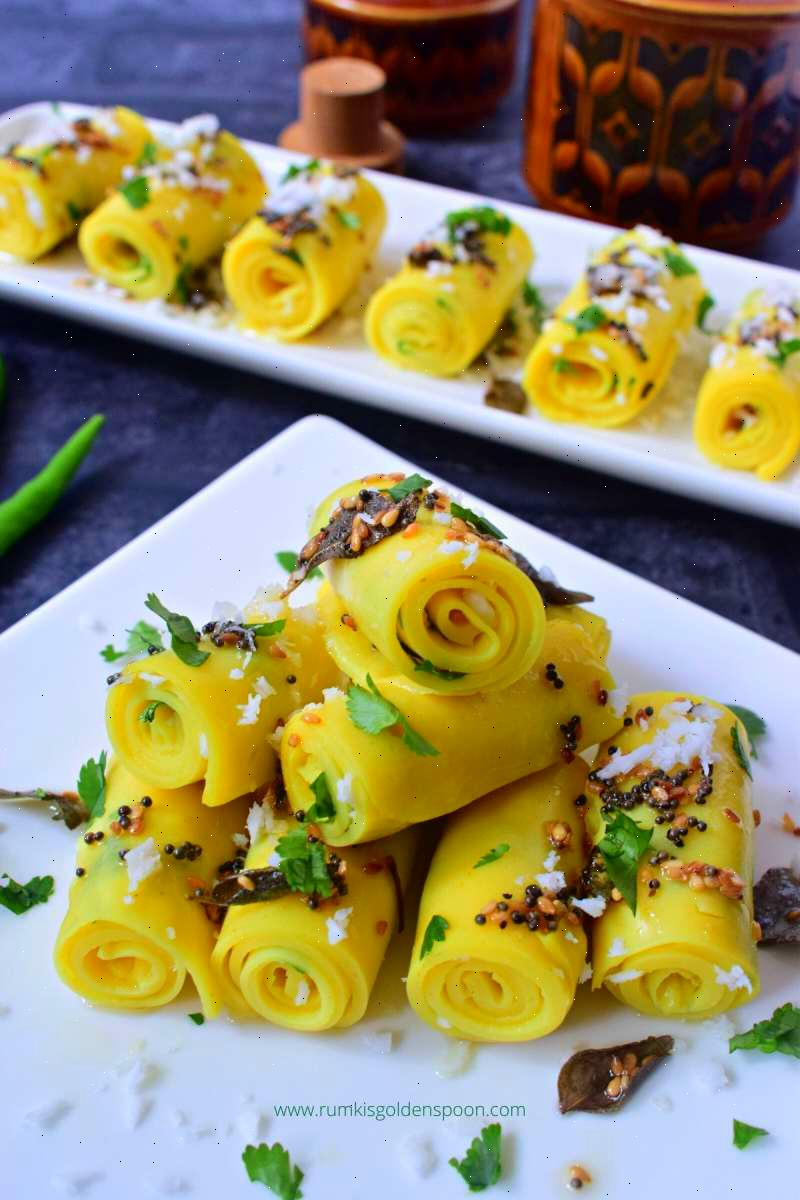khandvi: (63, 477, 763, 1057), (0, 93, 800, 467)
